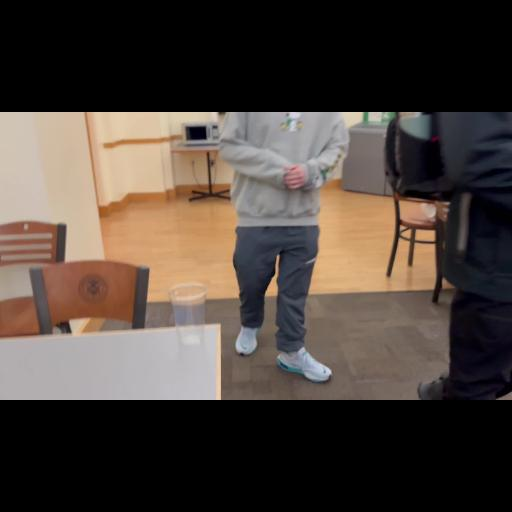lp_plastic_cup: (167, 281, 211, 349)
